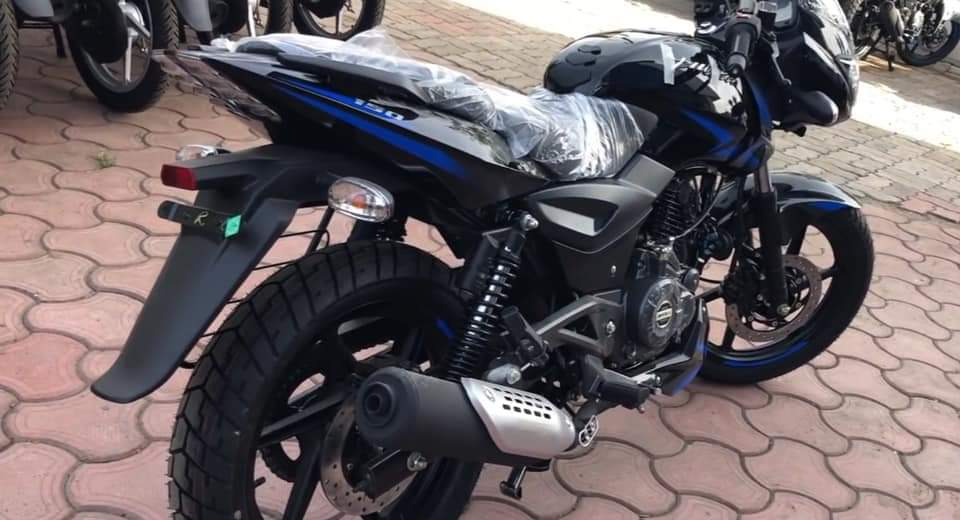bike: (96, 1, 875, 520)
